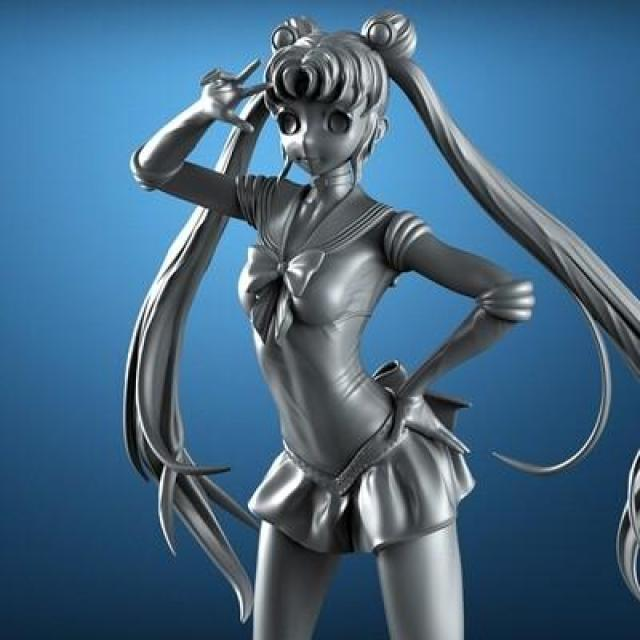Without deffect: (84, 5, 640, 640)
